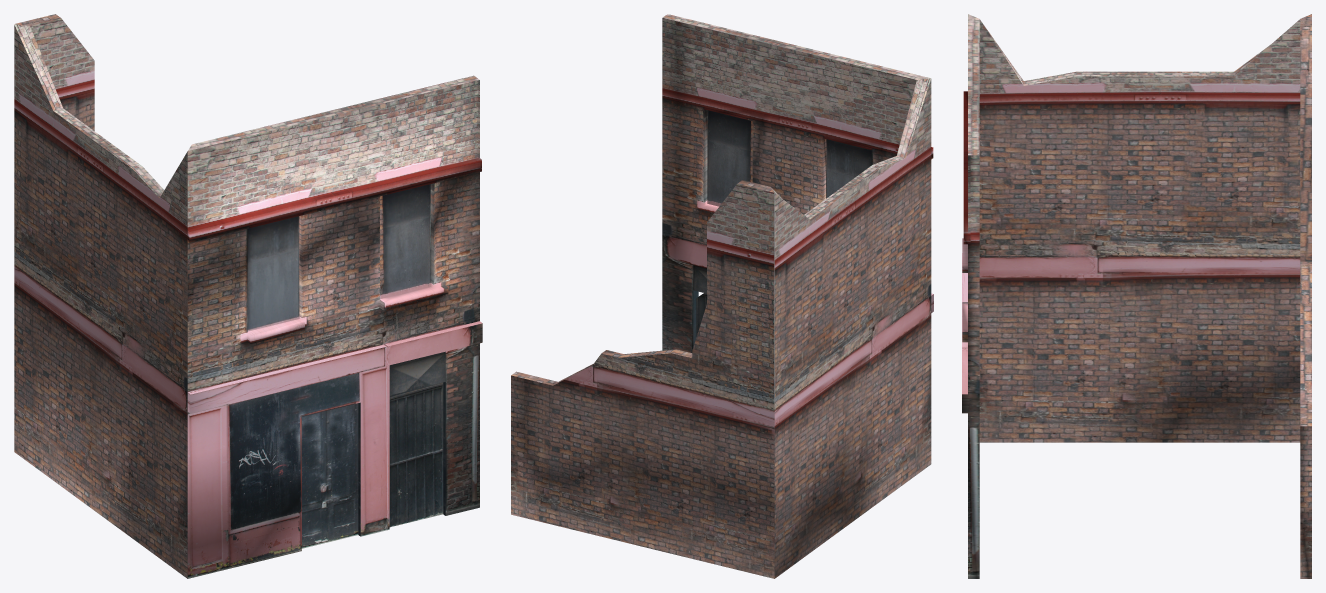
Rendered from building19.obj.
3 views of the same model, side by side, from view 1: azimuth 30°, elevation 25°; view 2: azimuth 150°, elevation 25°; view 3: azimuth 270°, elevation 25° (orthographic). The views are drawn at different scales.
Visible parts, largest first — view 1: def_surf_mat; view 2: def_surf_mat; view 3: def_surf_mat.
Part boxes in pixels (x1=…): def_surf_mat: x1=14, y1=14, x2=482, y2=578; def_surf_mat: x1=511, y1=14, x2=933, y2=578; def_surf_mat: x1=962, y1=14, x2=1311, y2=578.
Bounding box in the file's own units: 195 × 272 × 204.
Materials: 1 (1 with a texture image).
